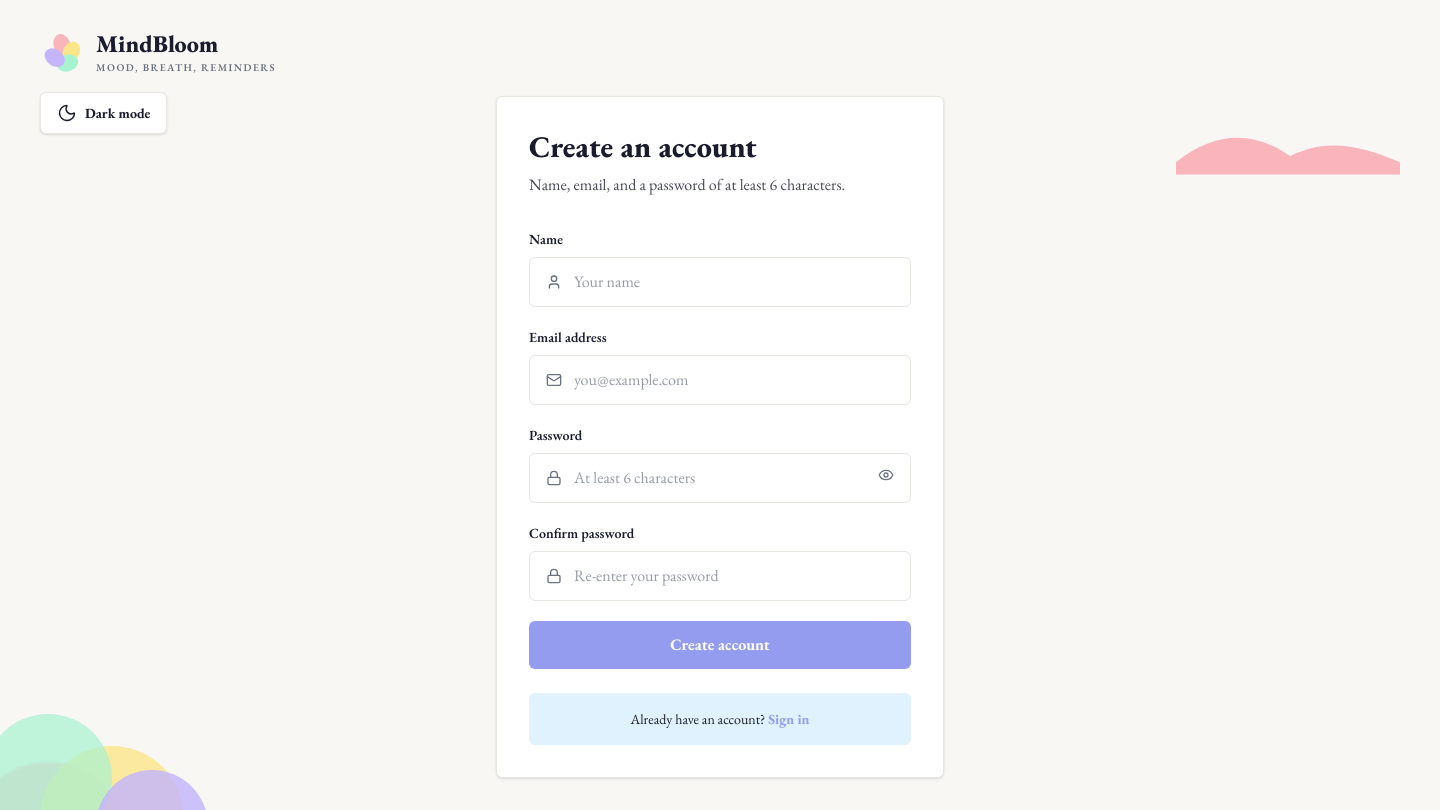
Test: Register › shows why registration failed
Type "Bloom" into the field labelled "Name". click: {"x": 734, "y": 282}
box: x1=574 y1=270 x2=894 y2=294
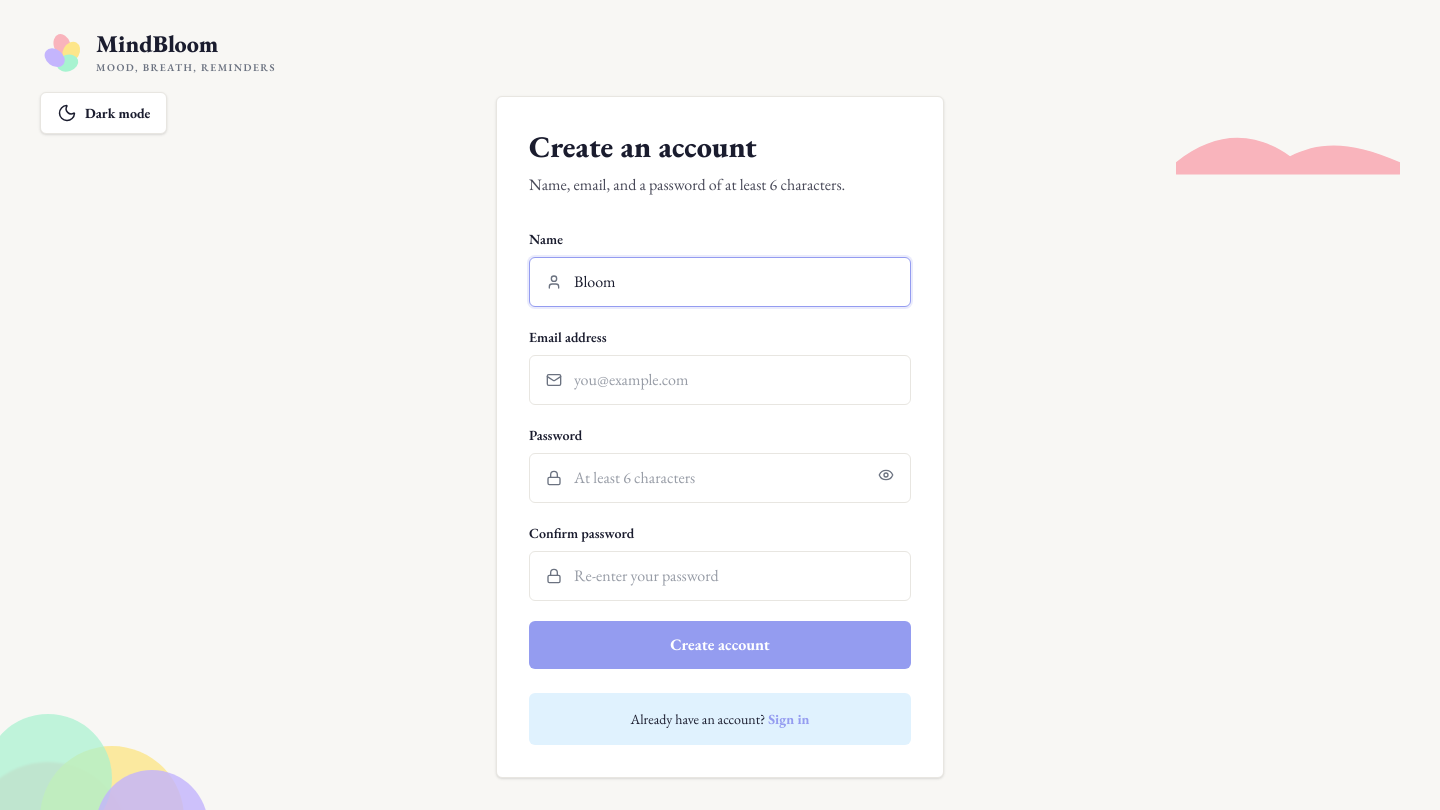
Type "bloom@example.com" into the field labelled "Email address". click: {"x": 734, "y": 380}
box: x1=574 y1=368 x2=894 y2=392
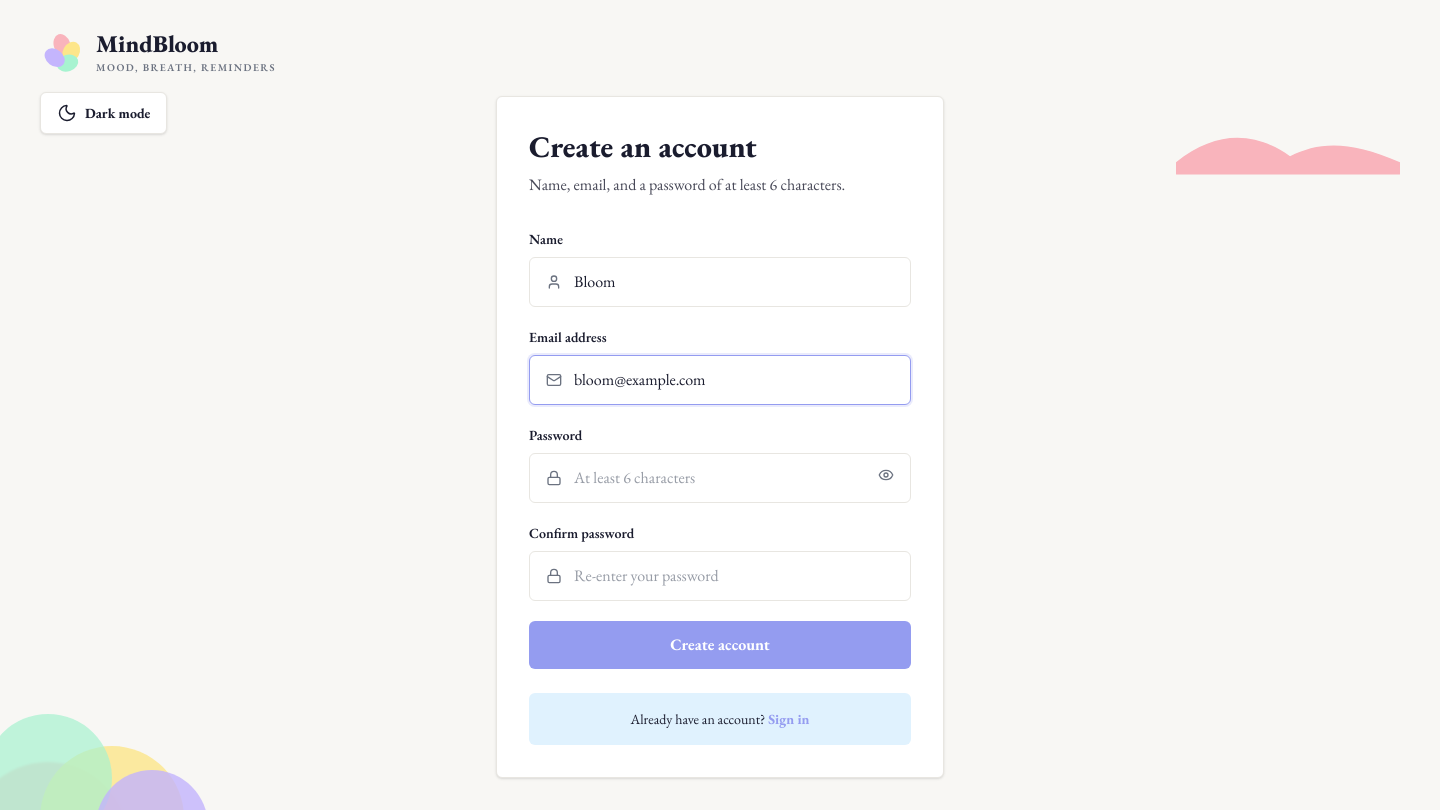
Type "secret1" into the password field labelled "Password". click: {"x": 720, "y": 478}
box: x1=574 y1=466 x2=866 y2=490
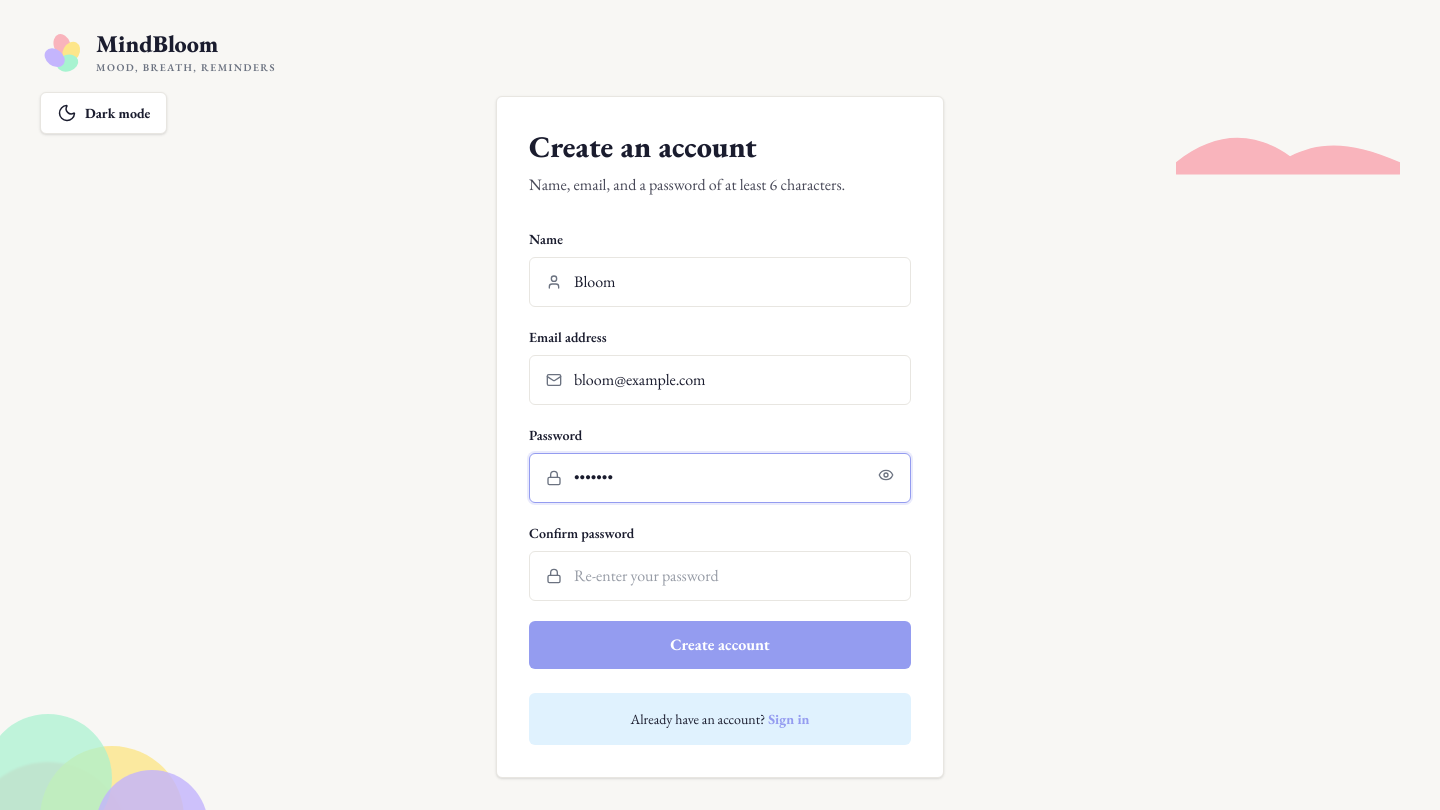
Type "secret1" into the password field labelled "Confirm password". click: {"x": 734, "y": 576}
box: x1=574 y1=564 x2=894 y2=588
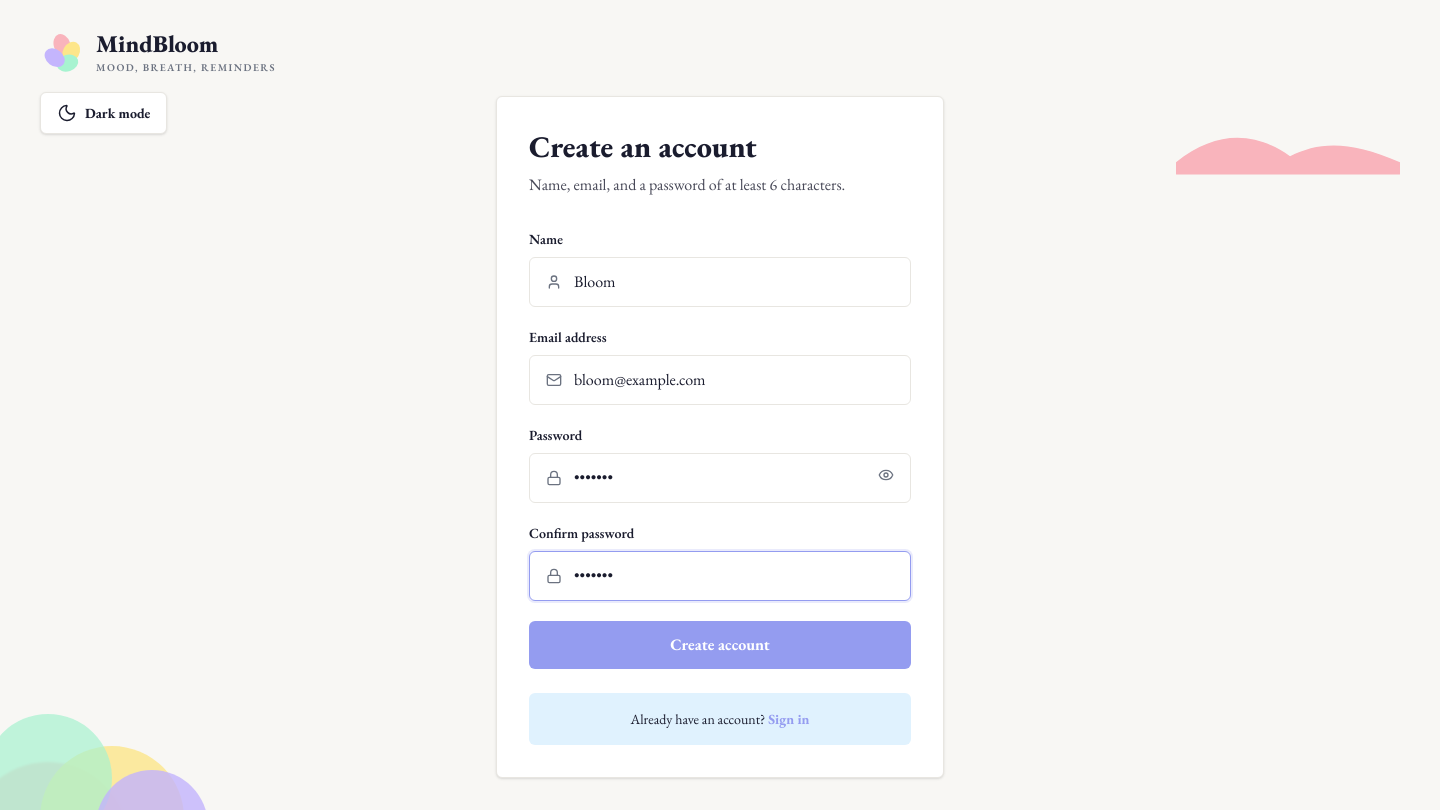
Click the submit button. click: {"x": 720, "y": 645}
box: x1=529 y1=621 x2=911 y2=669
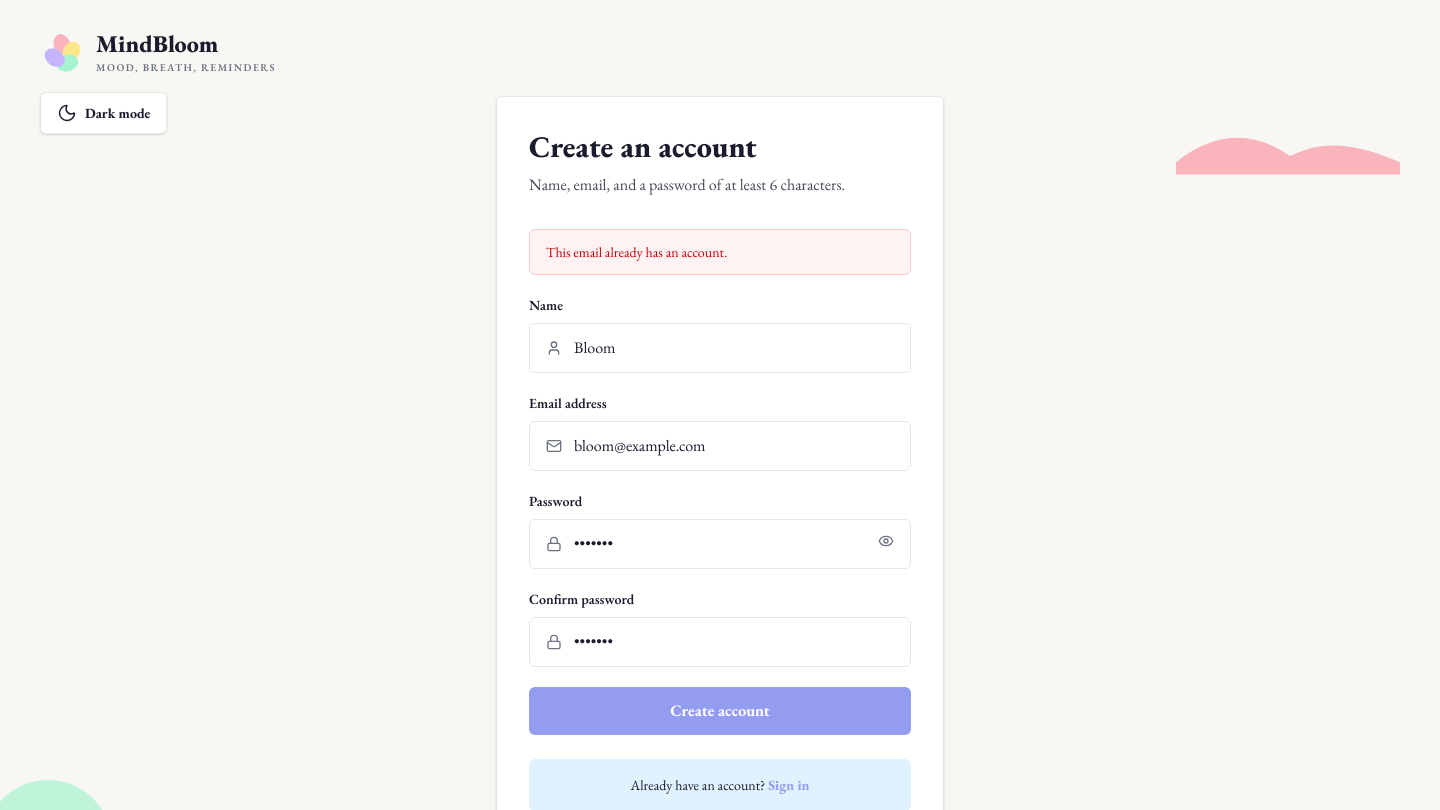
Now the message reads "This email already has an account.", box x1=546 y1=243 x2=727 y2=261
